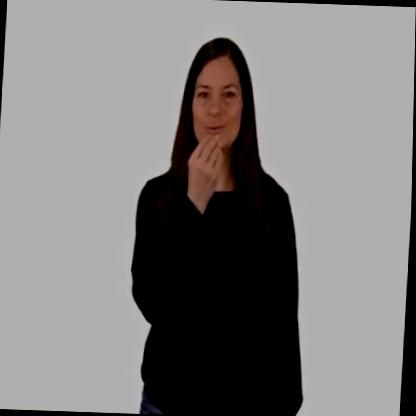Food: (125, 28, 322, 416)
